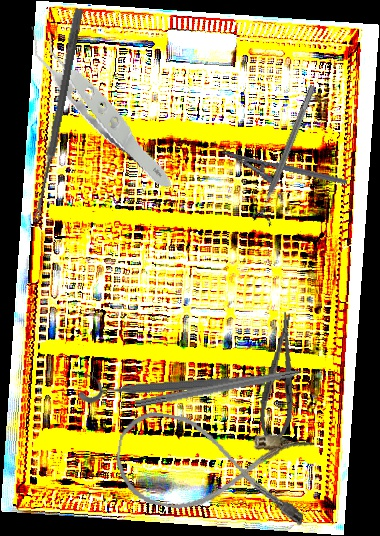Cannula: (109, 406, 317, 531)
Fixation Ring: (249, 81, 324, 228), (77, 359, 266, 404)
Hook Surgical: (134, 362, 328, 411)
Needle Holder: (254, 310, 306, 452), (217, 147, 348, 203)
Surgical Spoon: (31, 7, 84, 225)
Tissue Forceps: (29, 3, 173, 207)
